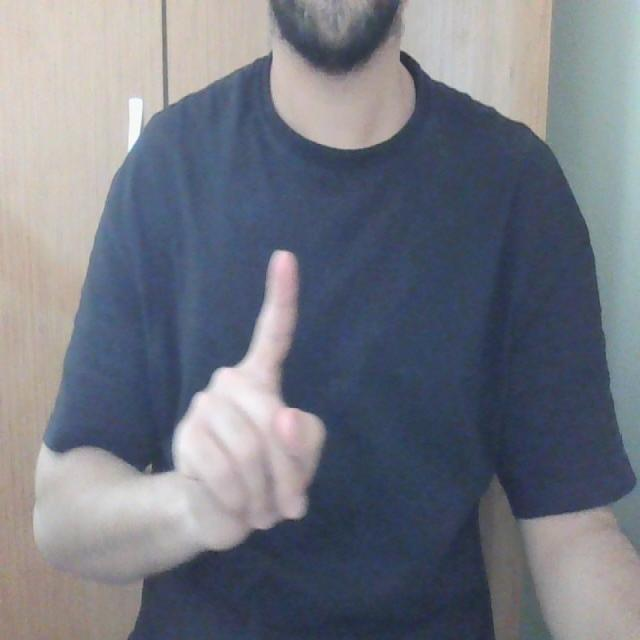Hayir: (171, 218, 328, 582)
